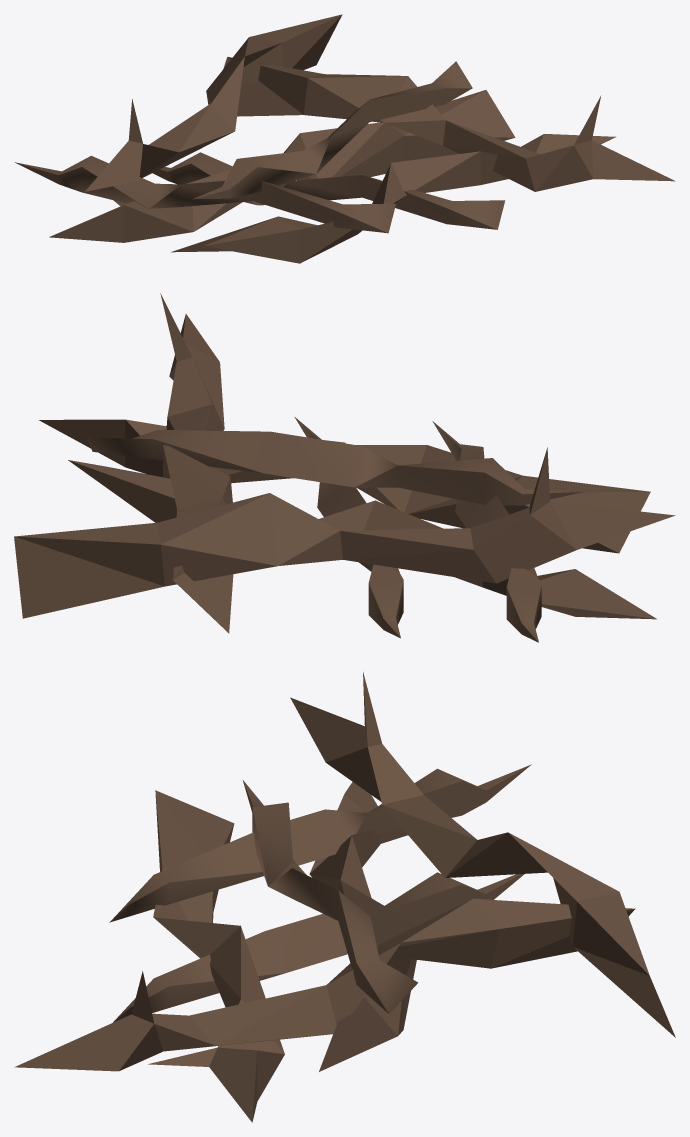
The model's file is sticks.fbx.
3 views of the same model, one above another, from view 1: azimuth 30°, elevation 25°; view 2: azimuth 150°, elevation 25°; view 3: azimuth 270°, elevation 25° (orthographic). The views are drawn at different scales.
Visible parts, largest first — view 1: sticks; view 2: sticks; view 3: sticks.
Part boxes in pixels (left/top/right/bottom): sticks: left=15, top=14, right=675, bottom=263; sticks: left=14, top=293, right=675, bottom=642; sticks: left=14, top=672, right=675, bottom=1122.
Size of the model in its own units: 1.59 by 0.3912 by 1.27.
